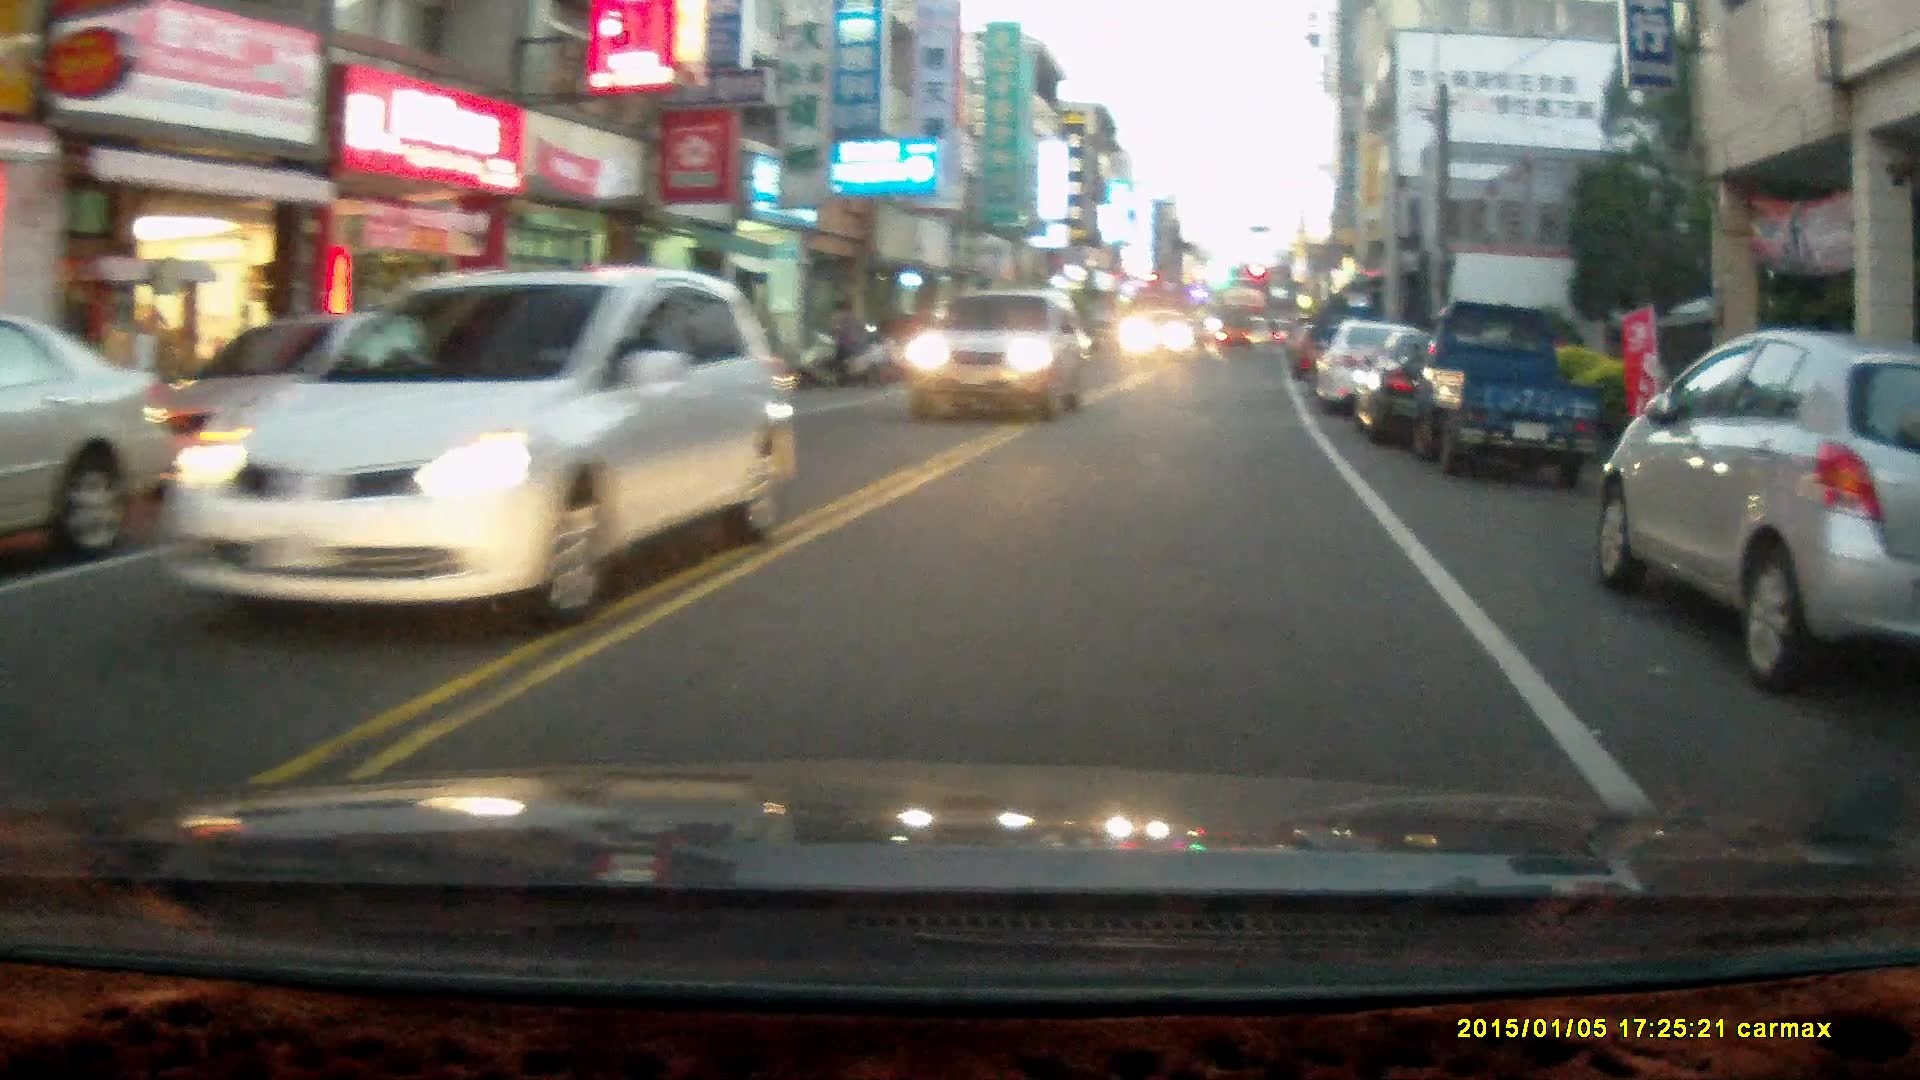pedestrian: (830, 297, 859, 392)
vehicle: (121, 264, 783, 624), (1599, 325, 1920, 695), (1, 308, 182, 578), (1414, 298, 1617, 482), (534, 297, 774, 440), (901, 282, 1096, 418), (1312, 318, 1472, 423), (1126, 304, 1202, 362)
